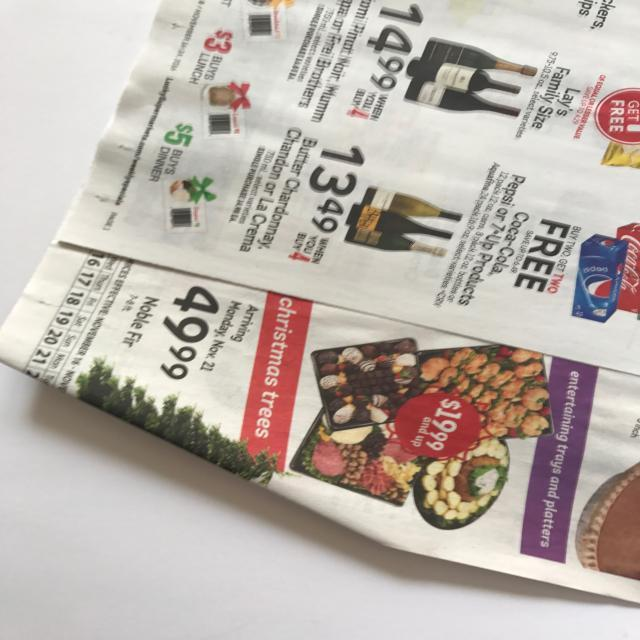paper: (1, 0, 640, 605)
